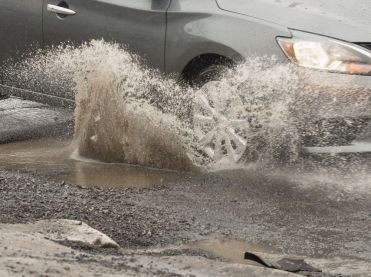pothole: (10, 96, 222, 217)
